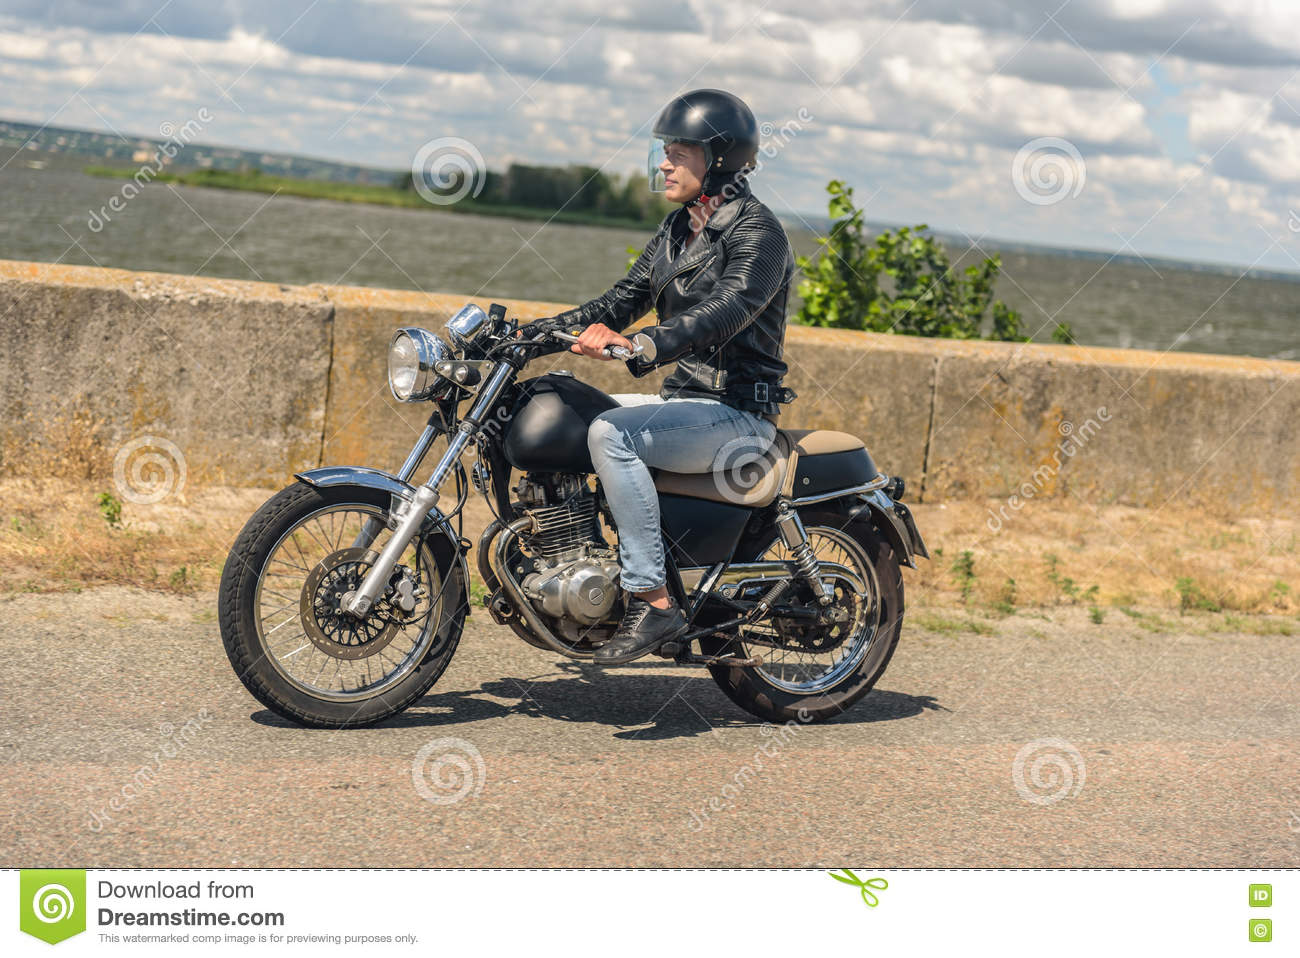helmet: (658, 89, 764, 170)
